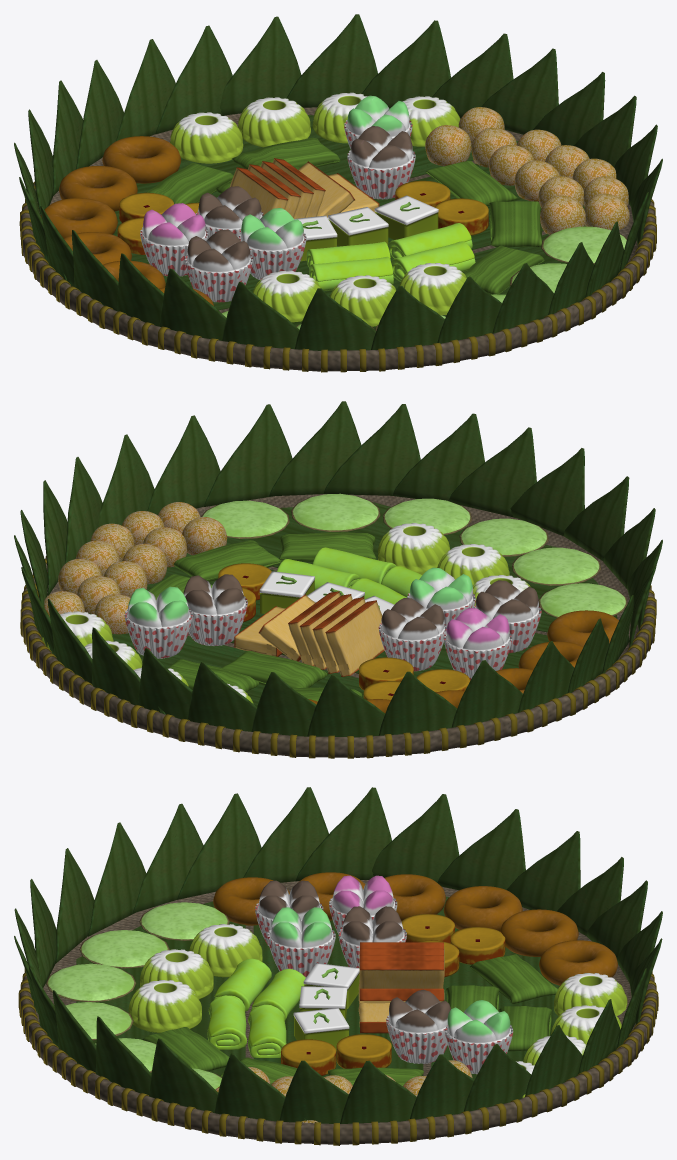
Rendered from makanan_traditional_cake.glb.
The picture shows the model from 3 angles, top to bottom: view 1: azimuth 30°, elevation 25°; view 2: azimuth 150°, elevation 25°; view 3: azimuth 270°, elevation 25°; orthographic projection.
Visible parts, largest first — view 1: Circle.021, Circle, Circle.031, Plane.004, kue basah putri ayu.004, kue basah putri ayu.005, Donat karamel.006, Donat karamel.005, Nagasari.002, kue basah putri ayu.001, kue basah putri ayu.003, kue kukus.004 (+50 smaller); view 2: Circle.021, Circle, Circle.031, Plane.004, Bika ambon.001, surabi.005, surabi.001, kue basah putri ayu.001, surabi.002, surabi.006, surabi.004, surabi.003 (+48 smaller); view 3: Circle.021, Circle, Circle.031, Plane.004, kue basah putri ayu.001, Donat karamel.005, surabi.002, Donat karamel.004, kue basah putri ayu.003, Donat karamel.006, surabi.001, Bika ambon.004 (+42 smaller).
Boxes of the visible parts, x1,y1,x2,y2 form: Circle.021: (14, 14, 662, 350); Circle: (21, 107, 655, 371); Circle.031: (19, 181, 656, 372); Plane.004: (113, 115, 585, 329); kue basah putri ayu.004: (170, 112, 243, 163); kue basah putri ayu.005: (238, 97, 310, 147); Donat karamel.006: (102, 136, 181, 183); Donat karamel.005: (59, 166, 137, 211); Nagasari.002: (489, 201, 542, 247); kue basah putri ayu.001: (399, 263, 466, 315); kue basah putri ayu.003: (253, 270, 320, 322); kue kukus.004: (186, 229, 250, 273); Circle.021: (14, 401, 662, 737); Circle: (21, 494, 655, 757); Circle.031: (20, 556, 656, 758); Plane.004: (88, 502, 617, 706); Bika ambon.001: (325, 600, 384, 676); surabi.005: (291, 493, 380, 531); surabi.001: (511, 547, 601, 585); kue basah putri ayu.001: (378, 523, 450, 574); surabi.002: (459, 518, 548, 556); surabi.006: (201, 500, 289, 538); surabi.004: (538, 583, 627, 617); surabi.003: (382, 498, 471, 535); Circle.021: (14, 787, 662, 1123); Circle: (19, 880, 657, 1144); Circle.031: (18, 968, 658, 1145); Plane.004: (76, 896, 559, 1079); kue basah putri ayu.001: (128, 980, 201, 1032); Donat karamel.005: (500, 909, 578, 956); surabi.002: (46, 963, 136, 1002); Donat karamel.004: (443, 886, 522, 931); kue basah putri ayu.003: (189, 924, 262, 977); Donat karamel.006: (539, 940, 617, 985); surabi.001: (79, 930, 169, 968); Bika ambon.004: (358, 960, 444, 995).
Bounding box in the file's own units: 7.66 × 1.28 × 7.66.
5 materials, 5 textured.
